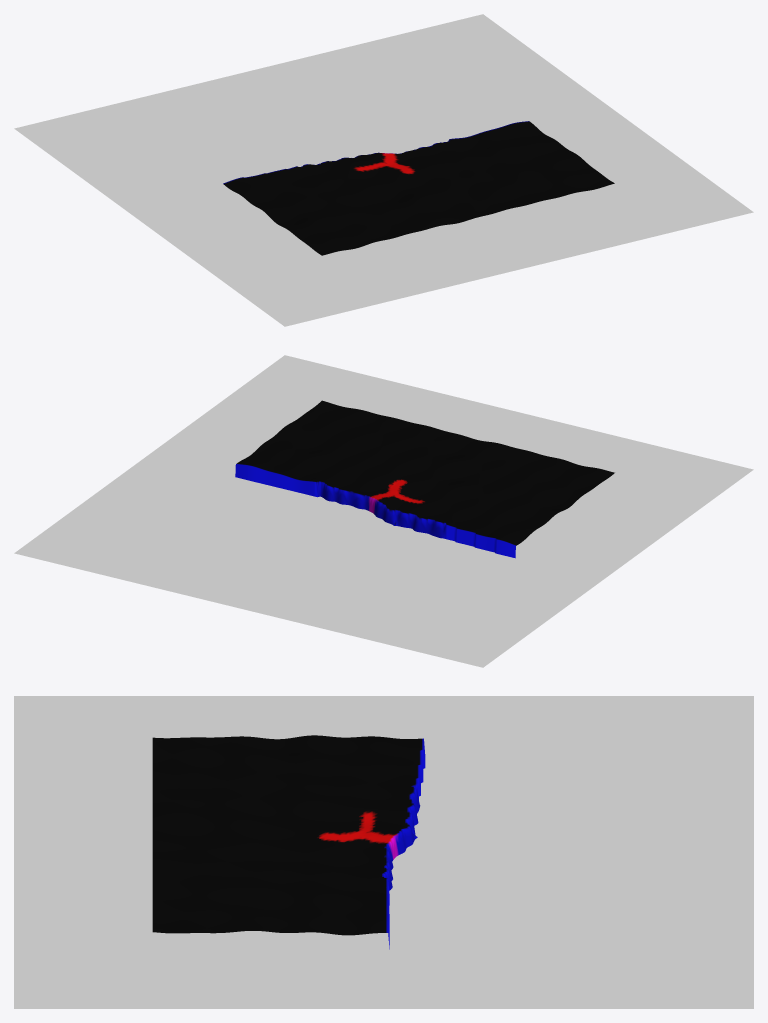
Rendered from terrain.glb.
3 renders of one model, top to bottom at view 1: azimuth 30°, elevation 25°; view 2: azimuth 150°, elevation 25°; view 3: azimuth 270°, elevation 25°, orthographic. The views are drawn at different scales.
Visible parts, largest first — view 1: water, terrain; view 2: water, terrain; view 3: water, terrain.
Part boxes in pixels (x1=…): water: x1=14, y1=14, x2=753, y2=326; terrain: x1=223, y1=121, x2=614, y2=255; water: x1=14, y1=355, x2=753, y2=667; terrain: x1=235, y1=400, x2=614, y2=558; water: x1=14, y1=696, x2=753, y2=1008; terrain: x1=152, y1=735, x2=425, y2=949.
Bounding box in the file's own units: 176 × 8.45 × 176.
